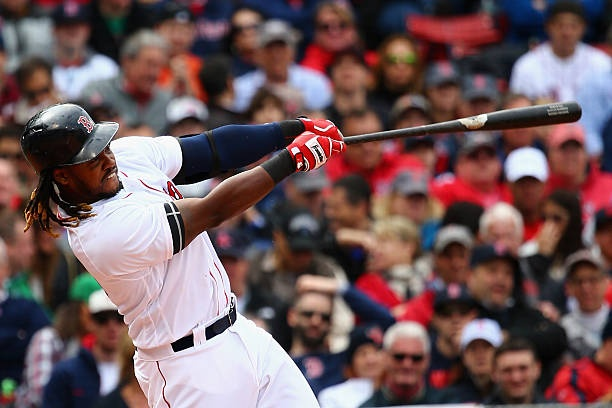bita: (342, 100, 581, 146)
